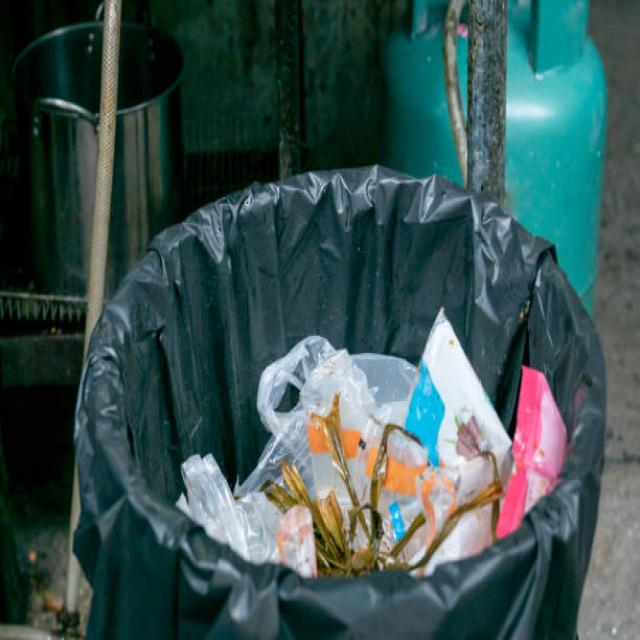plastic: (187, 331, 498, 525)
